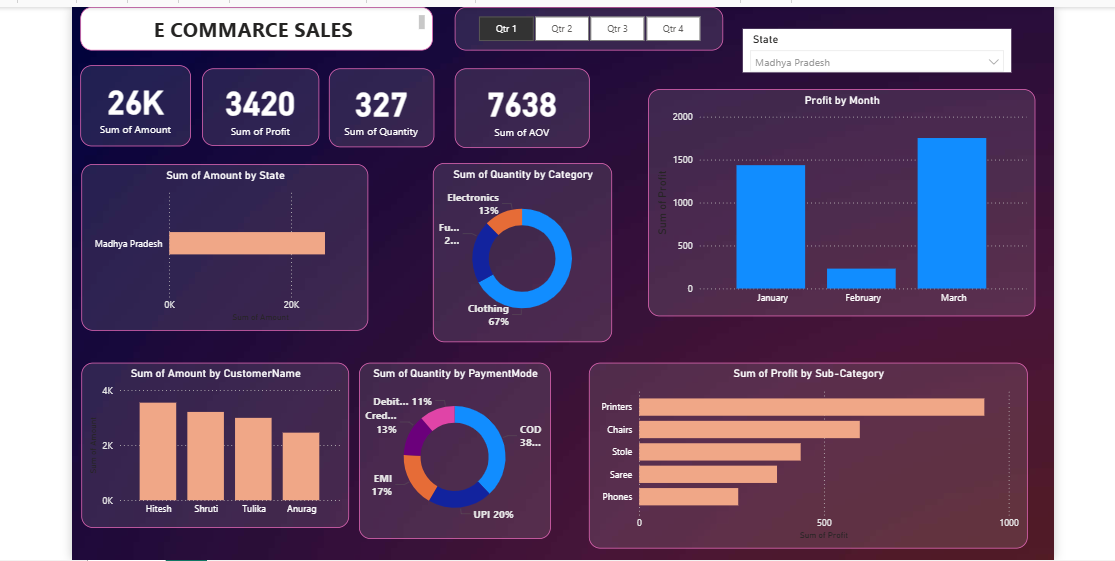

The dashboard page shown, as its layout file describes it:
{"tool":"powerbi","page":{"name":"Page 1","canvas":[1280,720],"ordinal":0},"visuals":[{"type":"textbox","box":[11.4,0,460,57.1],"z":0},{"type":"columnChart","title":"Profit by Month","fields":{"Category":["Orders_Converted.Order Date.Variation.Date Hierarchy.Month"],"Y":["Details (1).Profit"]},"box":[751.4,107.8,504.4,296.4],"z":1000},{"type":"barChart","fields":{"Category":["Details (1).Sub-Category"],"Y":["Details (1).Profit"]},"box":[673.6,464,571.8,242.5],"z":2000},{"type":"donutChart","fields":{"Category":["Details (1).Category"],"Y":["Details (1).Quantity"]},"box":[470,203.6,233.5,233.5],"z":3000},{"type":"donutChart","fields":{"Category":["Details (1).PaymentMode"],"Y":["Details (1).Quantity"]},"box":[374.3,464.3,250,230],"z":4000},{"type":"card","fields":{"Values":["Details (1).Amount"]},"box":[11.4,75.7,144.3,105.7],"z":5000},{"type":"card","fields":{"Values":["Details (1).Profit"]},"box":[170,80,152.9,101.4],"z":6000},{"type":"card","fields":{"Values":["Details (1).Quantity"]},"box":[334.3,80,137.1,102.9],"z":7000},{"type":"card","fields":{"Values":["Details (1).AOV"]},"box":[498.6,80,175.7,104.3],"z":8000},{"type":"barChart","fields":{"Category":["Orders_Converted.State"],"Y":["Details (1).Amount"]},"box":[12.9,204.3,374.3,217.1],"z":9000},{"type":"columnChart","fields":{"Category":["Orders_Converted.CustomerName"],"Y":["Details (1).Amount"]},"box":[12.9,464.3,348.6,215.7],"z":10000},{"type":"slicer","fields":{"Values":["Orders_Converted.Order Date.Variation.Date Hierarchy.Quarter"]},"box":[498.6,0,350,57.1],"z":11000},{"type":"slicer","fields":{"Values":["Orders_Converted.State"]},"box":[874.3,28.6,350,57.1],"z":12000}]}

Visuals, with their boxes in screenshot pixels (x1, y1, x2, y2):
textbox: (x1=67, y1=0, x2=433, y2=8)
"Profit by Month" columnChart: (x1=656, y1=48, x2=1057, y2=284)
barChart - Details (1).Sub-Category x Details (1).Profit: (x1=594, y1=331, x2=1049, y2=524)
donutChart - Details (1).Category x Details (1).Quantity: (x1=432, y1=124, x2=618, y2=310)
donutChart - Details (1).PaymentMode x Details (1).Quantity: (x1=356, y1=332, x2=555, y2=515)
card - Details (1).Amount: (x1=67, y1=22, x2=182, y2=107)
card - Details (1).Profit: (x1=193, y1=26, x2=315, y2=107)
card - Details (1).Quantity: (x1=324, y1=26, x2=433, y2=108)
card - Details (1).AOV: (x1=455, y1=26, x2=595, y2=109)
barChart - Orders_Converted.State x Details (1).Amount: (x1=68, y1=125, x2=366, y2=298)
columnChart - Orders_Converted.CustomerName x Details (1).Amount: (x1=68, y1=332, x2=346, y2=503)
slicer - Orders_Converted.Order Date.Variation.Date Hierarchy.Quarter: (x1=455, y1=0, x2=733, y2=8)
slicer - Orders_Converted.State: (x1=754, y1=0, x2=1032, y2=30)
